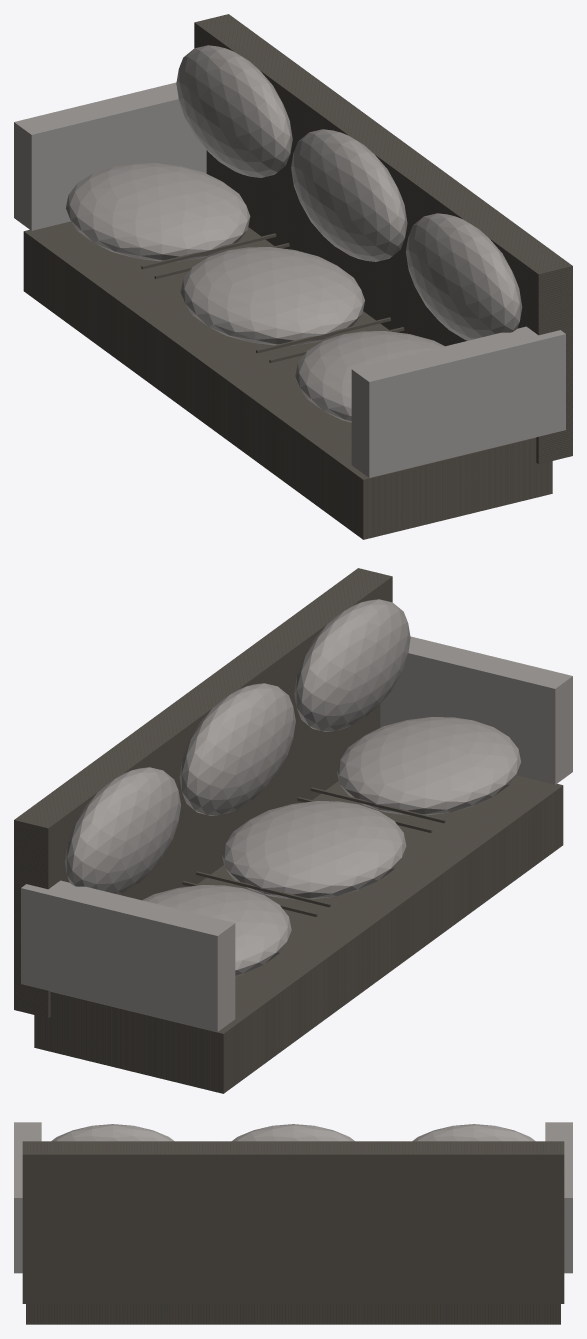
The model's file is nexus-sectional.glb.
3 views of the same model, one above another, from view 1: azimuth 30°, elevation 25°; view 2: azimuth 150°, elevation 25°; view 3: azimuth 270°, elevation 25° (orthographic). The views are drawn at different scales.
Visible parts, largest first — view 1: sofa plinth, sofa rear frame, armrest 1.53, armrest -1.53, seat cushion 0, seat cushion 1, back cushion 0, back cushion 1, back cushion 2, seat cushion 2; view 2: sofa plinth, sofa rear frame, armrest -1.53, armrest 1.53, seat cushion 2, seat cushion 1, back cushion 2, back cushion 1, back cushion 0, seat cushion 0; view 3: sofa rear frame, sofa plinth, armrest 1.53, armrest -1.53, back cushion 2, back cushion 0, back cushion 1.
Part boxes in pixels (x1,y1,x2,y2): sofa plinth: (23, 221, 552, 539); sofa rear frame: (194, 14, 572, 464); armrest 1.53: (351, 326, 565, 477); armrest -1.53: (14, 82, 206, 230); seat cushion 0: (66, 163, 250, 261); seat cushion 1: (180, 247, 364, 345); back cushion 0: (176, 45, 292, 177); back cushion 1: (291, 129, 407, 261); back cushion 2: (405, 213, 522, 340); seat cushion 2: (295, 331, 444, 422); sofa plinth: (34, 775, 563, 1093); sofa rear frame: (14, 568, 392, 1018); armrest -1.53: (21, 880, 235, 1031); armrest 1.53: (380, 636, 572, 784); seat cushion 2: (336, 717, 520, 815); seat cushion 1: (222, 801, 406, 899); back cushion 2: (294, 599, 410, 731); back cushion 1: (179, 683, 295, 815); back cushion 0: (64, 767, 181, 894); seat cushion 0: (142, 885, 291, 976); sofa rear frame: (22, 1141, 564, 1303); sofa plinth: (26, 1304, 560, 1324); armrest 1.53: (14, 1122, 41, 1273); armrest -1.53: (545, 1122, 572, 1273); back cushion 2: (51, 1124, 174, 1141); back cushion 0: (412, 1124, 535, 1141); back cushion 1: (232, 1124, 354, 1141).
Bounding box in the file's own units: 1.09 × 1.18 × 3.22.
Materials: 3 (1 with a texture image).
